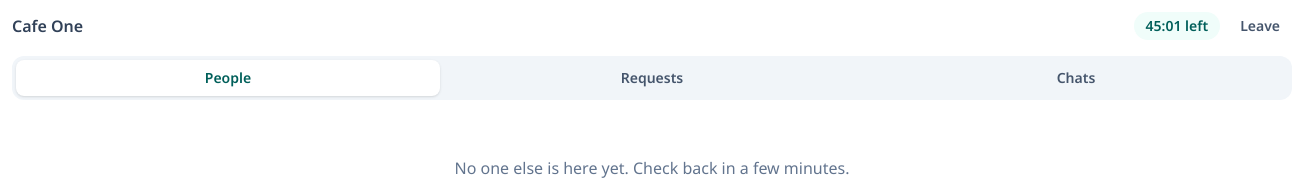
Test case: HomePage › leaves only on the second tap
Click the button "Leave".
click(1260, 26)  # box [1228,12,1292,40]
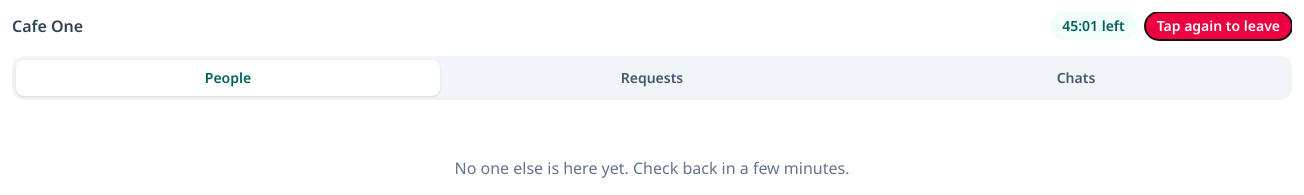
Click the button "Tap again to leave".
click(1218, 26)  # box [1145,12,1292,40]
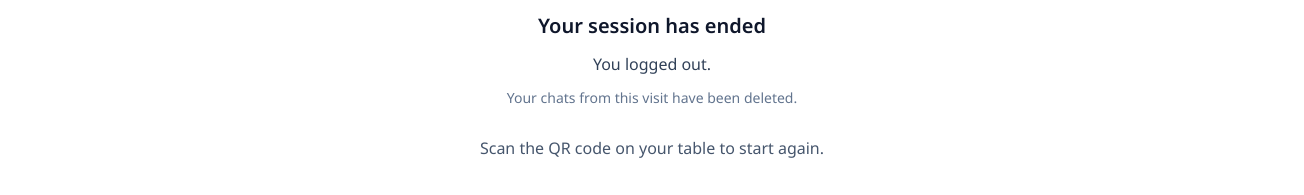
Now the text "You logged out." is shown, box [593,52,711,76]
